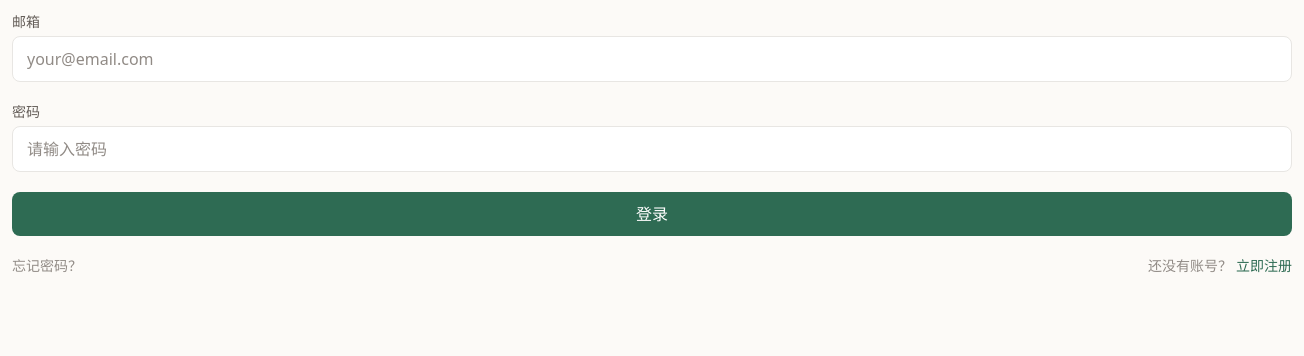
LoginForm › shows error message on failed login
In the field labelled "邮箱": (652, 59) [12,36,1292,82], type "test@example.com"
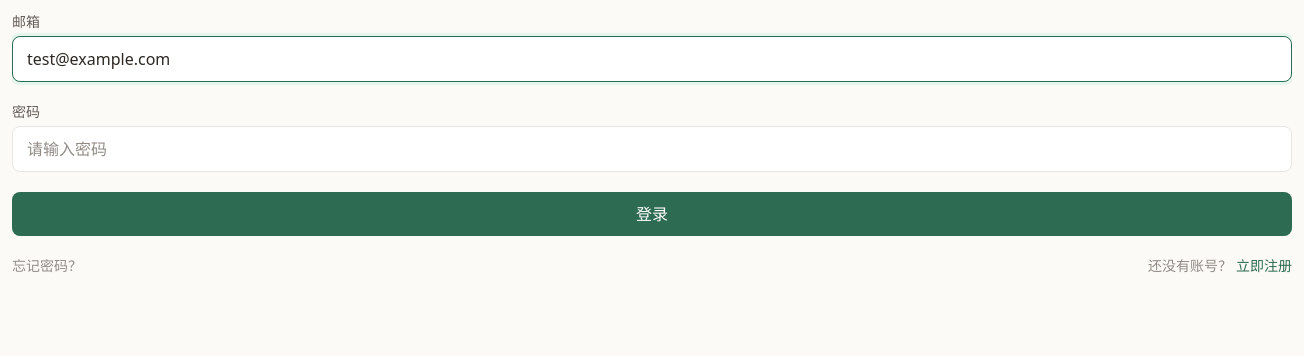
In the password field labelled "密码": (652, 149) [12,126,1292,172], type "wrongpass"
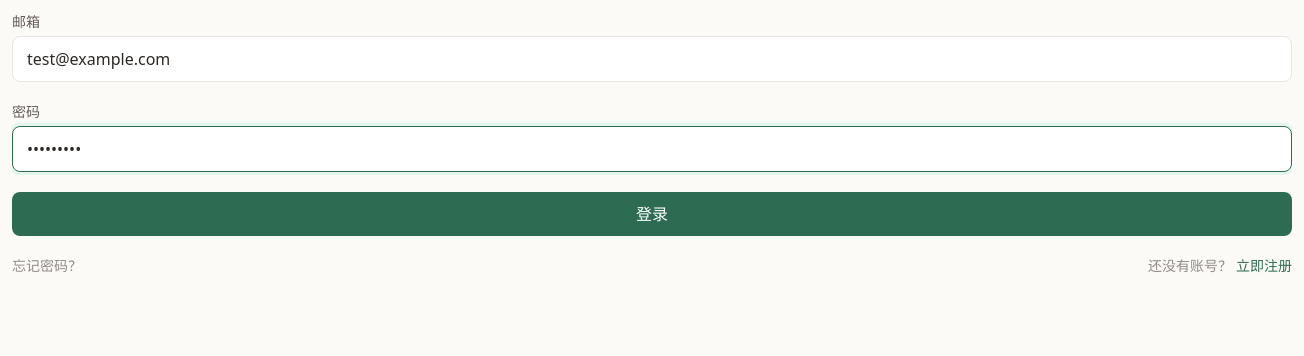
Click the button "登录": (652, 214) [12,192,1292,236]
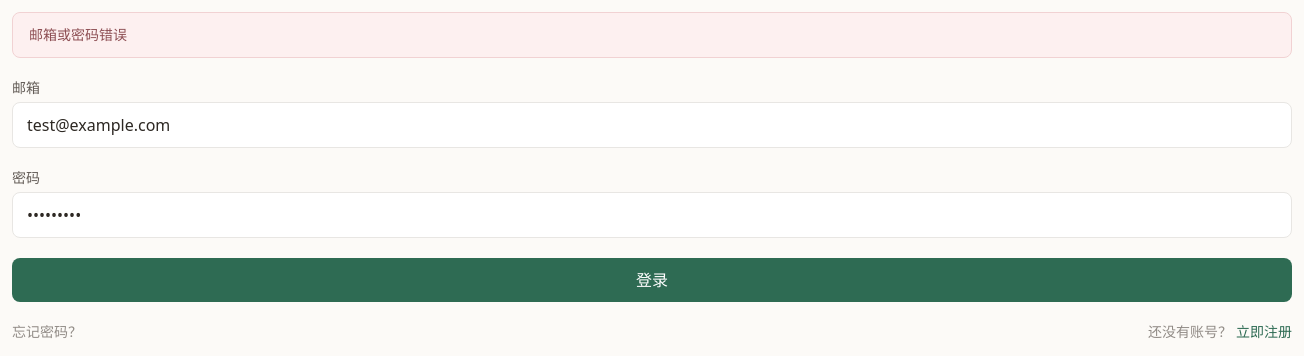
Now the text "邮箱或密码错误" is shown, box [12,12,1292,58]
